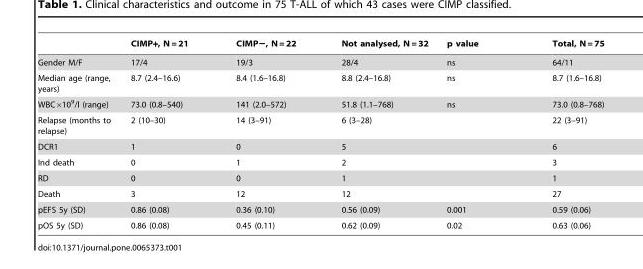table: (37, 36, 603, 229)
table column: (318, 36, 436, 229), (211, 36, 318, 229), (120, 36, 211, 229), (514, 36, 603, 229), (37, 36, 120, 229), (436, 36, 514, 229)
table column header: (37, 36, 603, 52)
table row: (37, 69, 603, 95), (37, 112, 603, 138), (37, 52, 603, 69), (37, 95, 603, 112), (37, 36, 603, 52), (37, 138, 603, 154), (37, 154, 603, 170), (37, 185, 603, 201), (37, 201, 603, 217), (37, 170, 603, 185), (37, 217, 603, 229)
